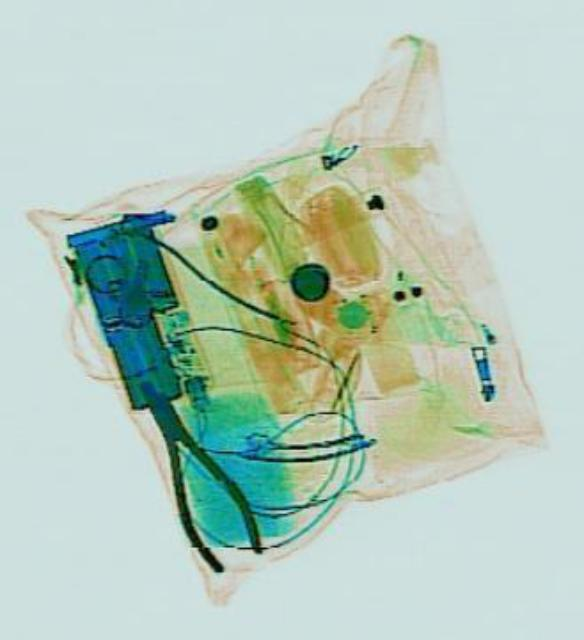Pliers: (111, 363, 270, 579)
